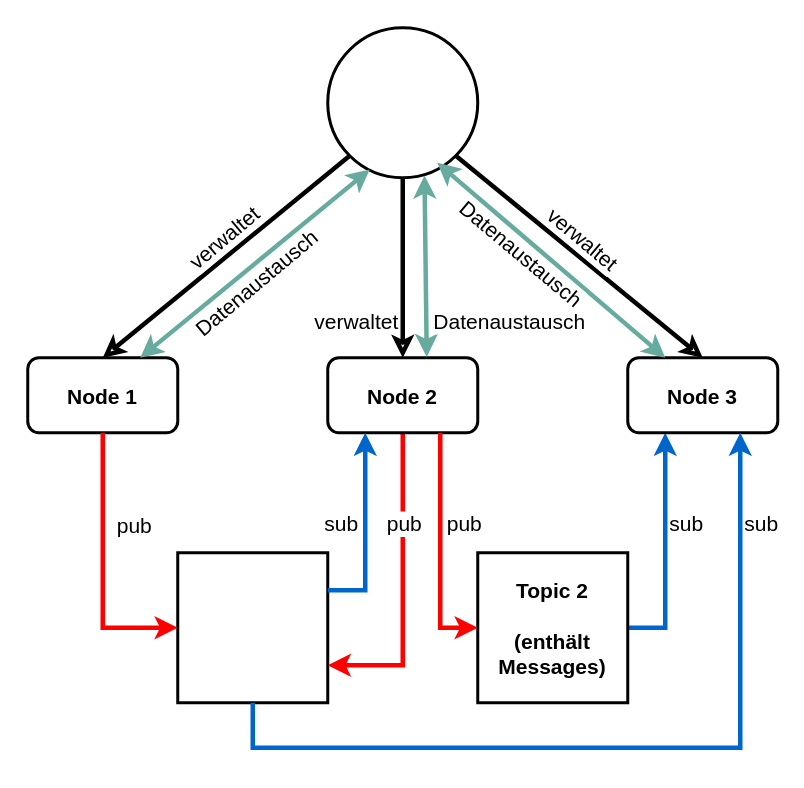
Image size: 804x788. Some labels were removed from this diagram. The centre of each missing label's shape, as x and y in pixels:
ROS-Master (Turtlebot): the point at 402,102
Topic 1 (enthält Messages): the point at 252,627
